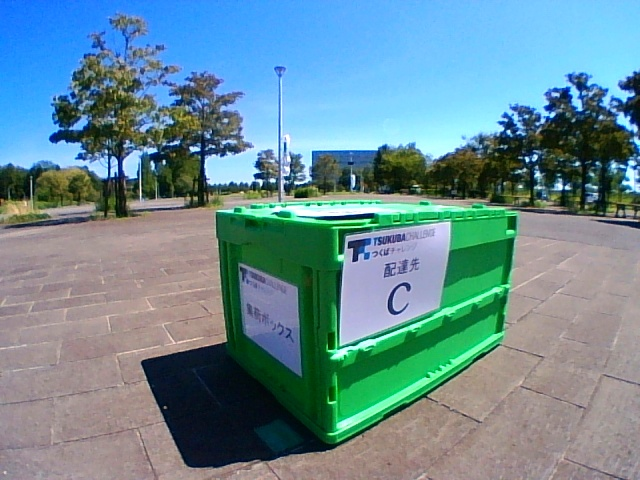green_box: (216, 199, 518, 444)
tag_c: (385, 249, 415, 315)
